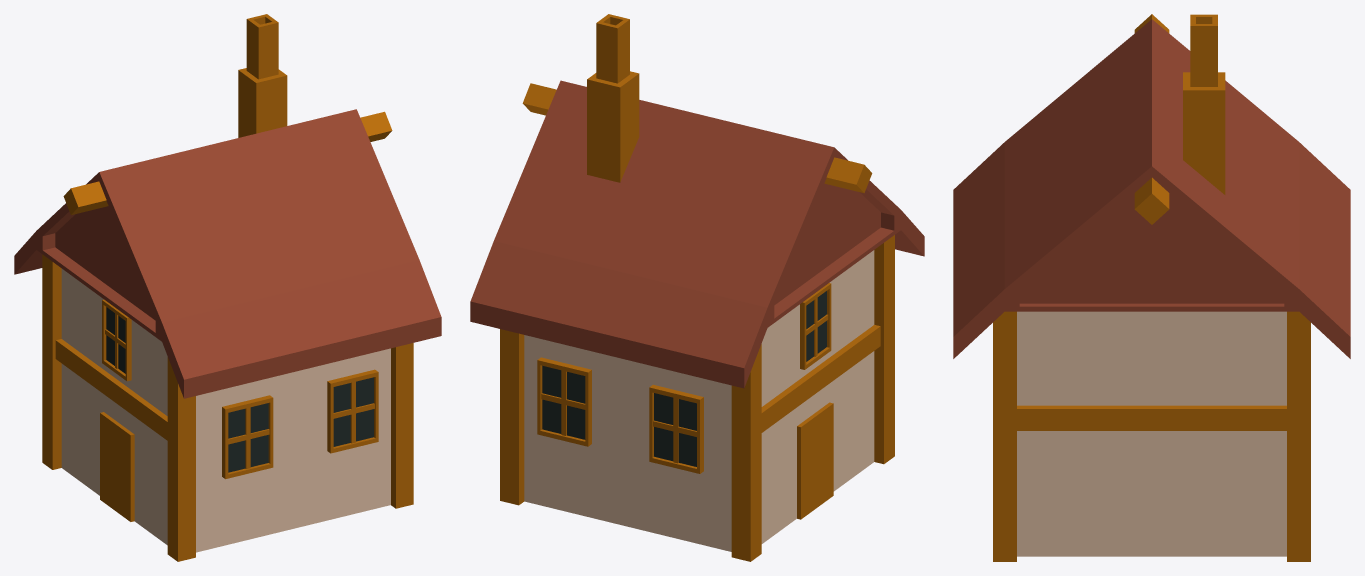
Rendered from Dom.fbx.
3 renders of one model, left to right at view 1: azimuth 30°, elevation 25°; view 2: azimuth 150°, elevation 25°; view 3: azimuth 270°, elevation 25°, orthographic. The views are drawn at different scales.
Visible parts, largest first — view 1: Cube.016; view 2: Cube.016; view 3: Cube.016.
Boxes of the visible parts, <box> form: Cube.016: <box>14,14,441,561</box>; Cube.016: <box>470,14,924,561</box>; Cube.016: <box>953,14,1350,561</box>.
Size of the model in its own units: 289 by 380 by 270.
